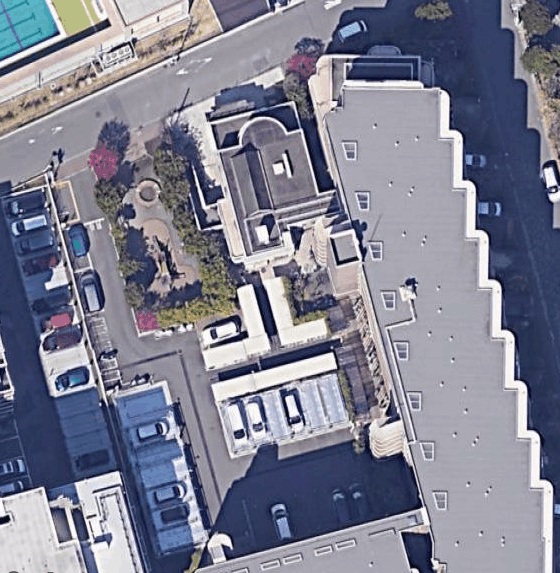facility: (304, 21, 559, 547)
